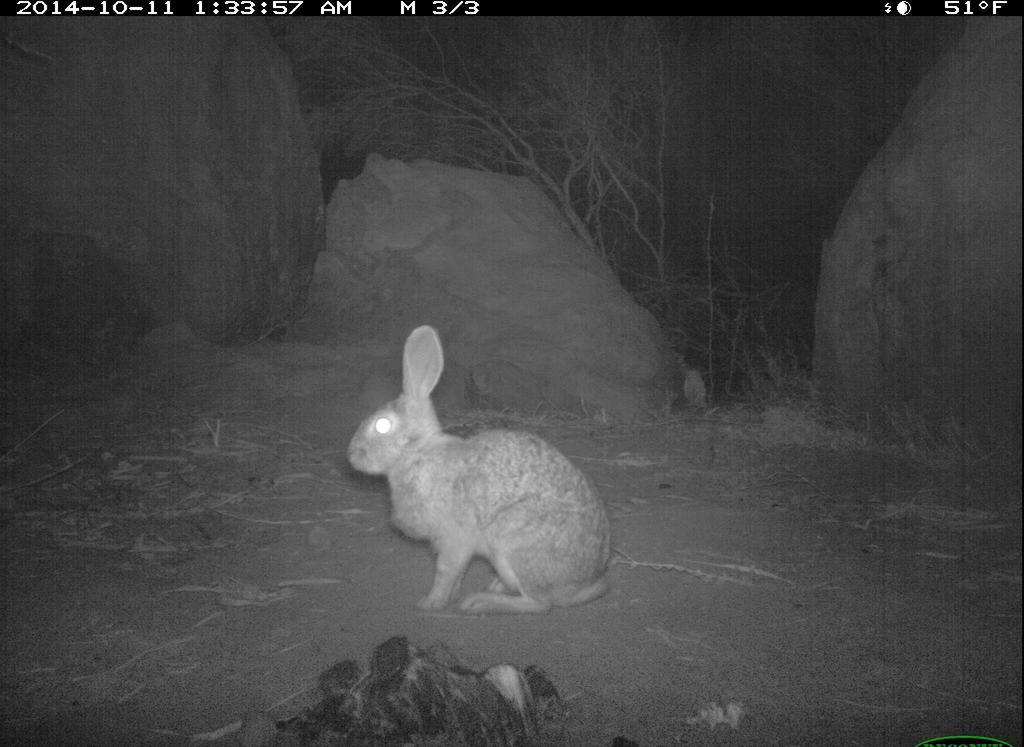rabbit: (340, 322, 628, 628)
